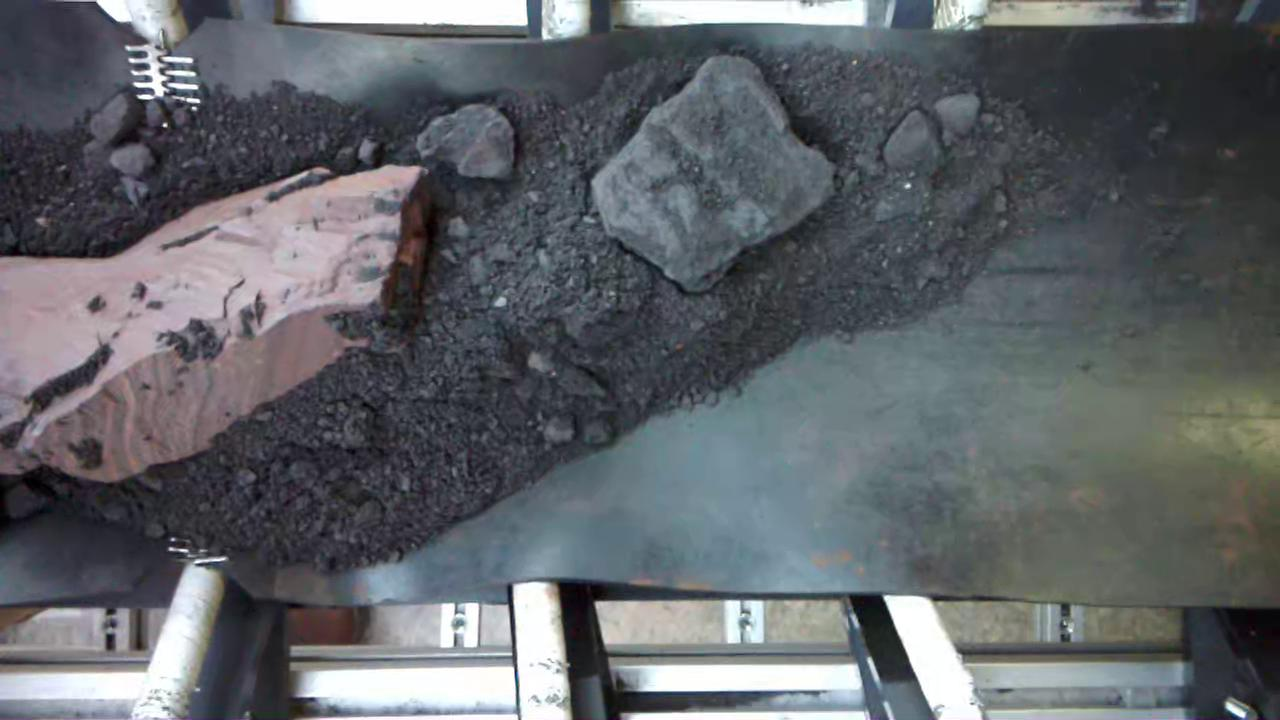conveyor: (13, 40, 1277, 600)
